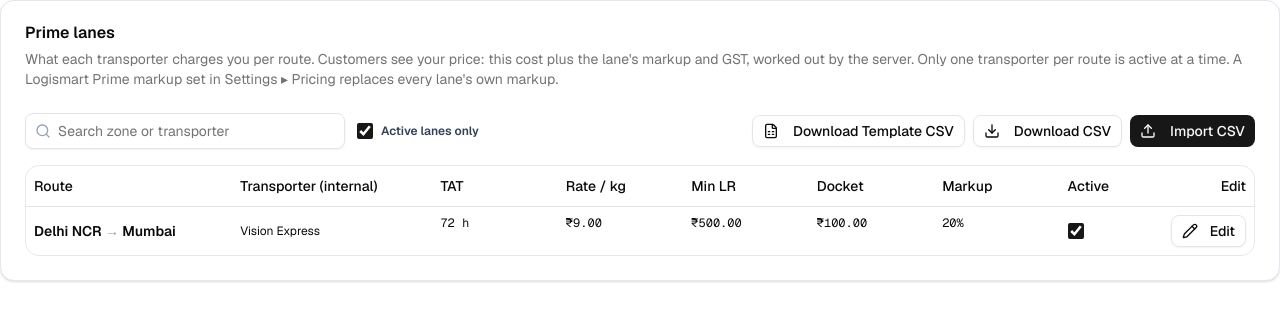
Test case: PrimeLanesEditor › shows a validation message instead of saving a bad value
Click the button with test id "prime-lanes.row.lane-1.edit" at (1208, 230), box [1171, 214, 1246, 246]
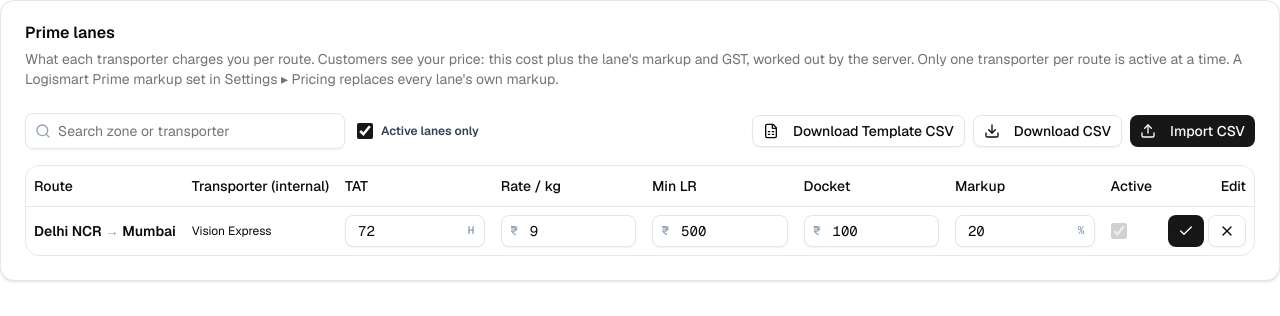
Replace the text in the field with test id "prime-lanes.row.lane-1.tat_hours" with "0" at (415, 230), box [345, 214, 485, 246]
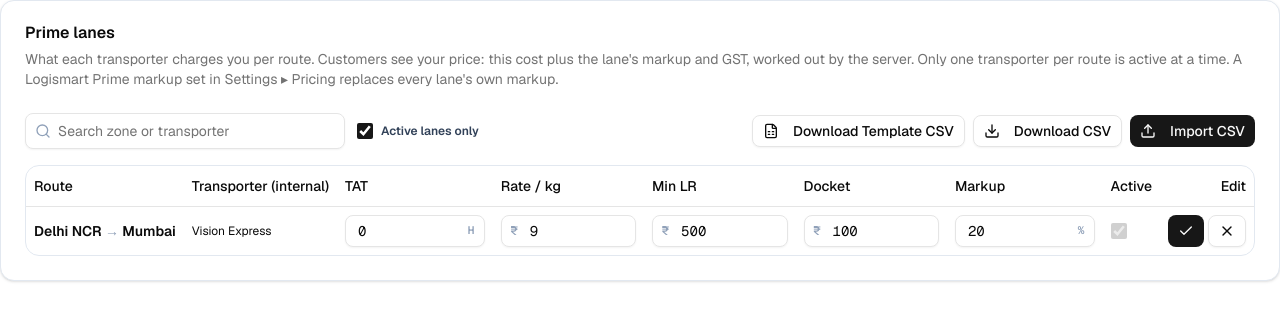
Click the button with test id "prime-lanes.row.lane-1.save" at (1186, 230), box [1168, 214, 1204, 246]
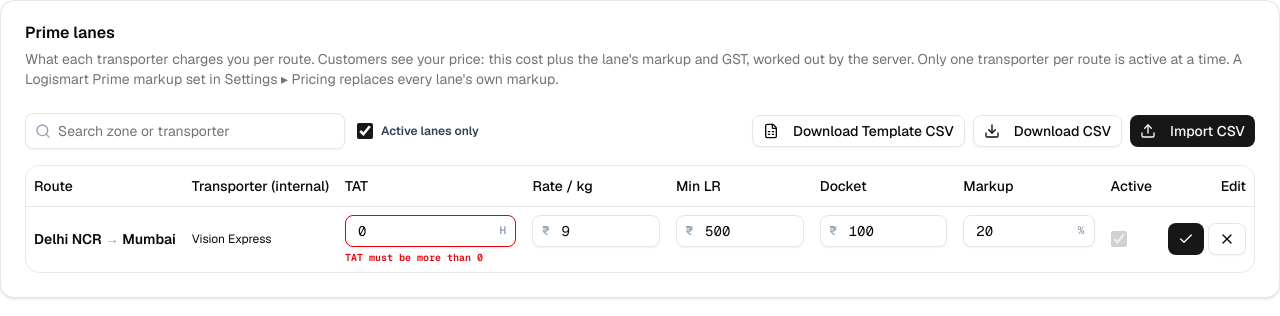
Now the text "TAT must be more than 0" is shown, box [345, 250, 483, 264]
